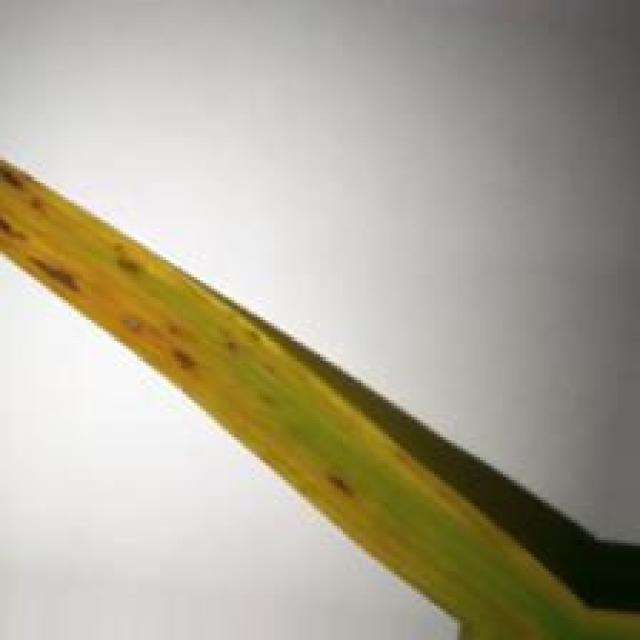Narrow_Brown_Leaf_Spot: (0, 158, 640, 638)
